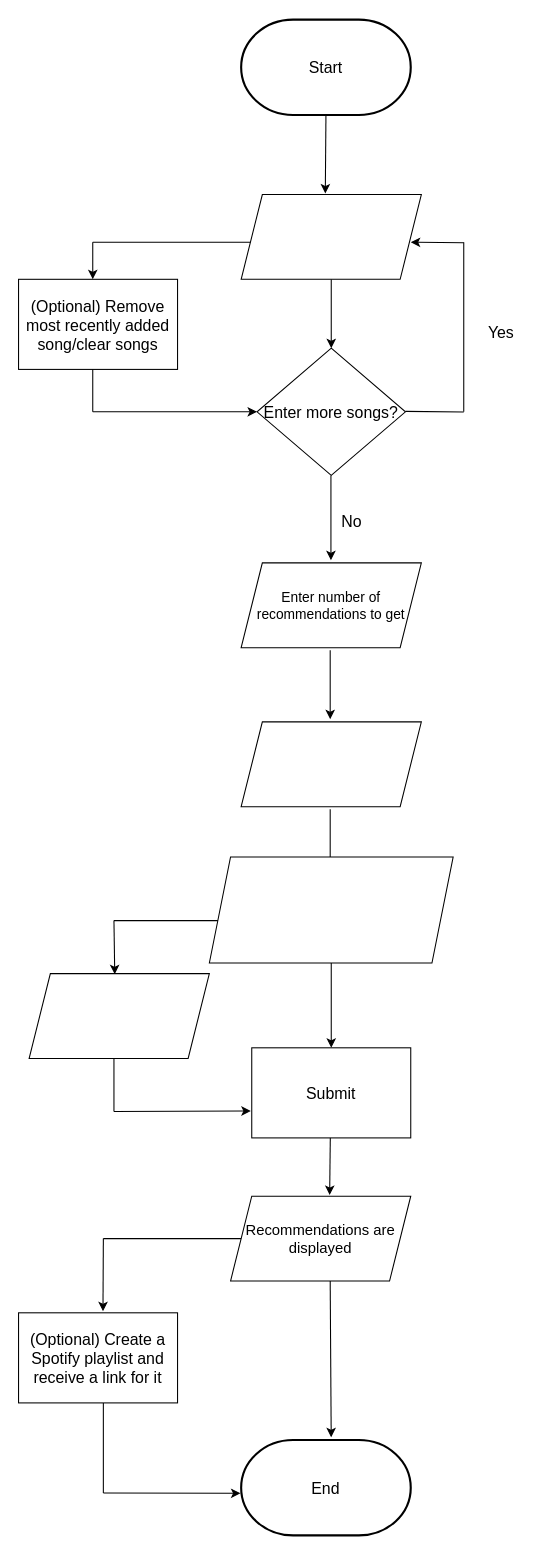
This 546x1554 diagram has some shape labels left out. Here are the shapes that lost their labels. From the top down, the centre of each, then its label:
[330,236]: Enter song title, artist, rating, and add song
[330,764]: Enter amount of recommendations to get from the same artist
[330,909]: Enter option for recommendations to have songs from artists included in input
[118,1015]: (Optional) Enter three or less genre tags to prioritise
